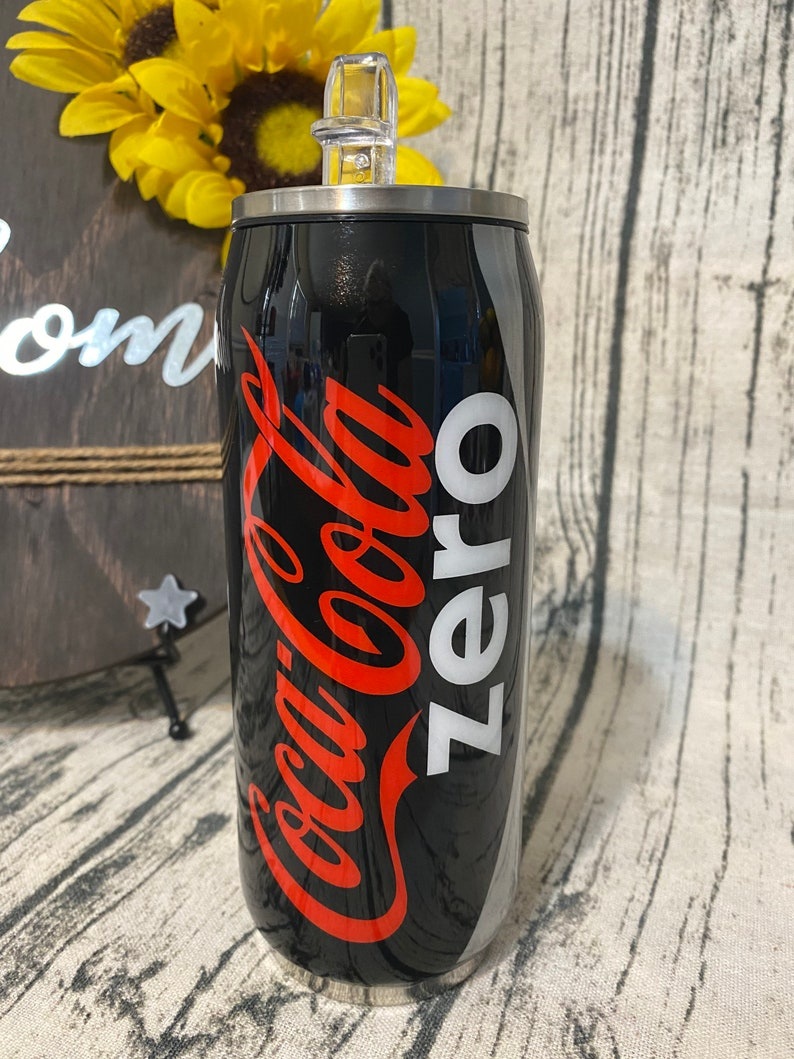can: (196, 173, 550, 1012)
